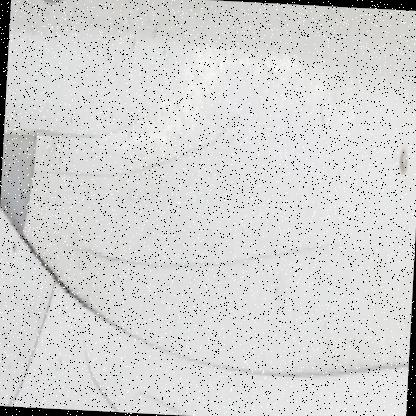Crack: (0, 83, 415, 415), (9, 0, 81, 36)
